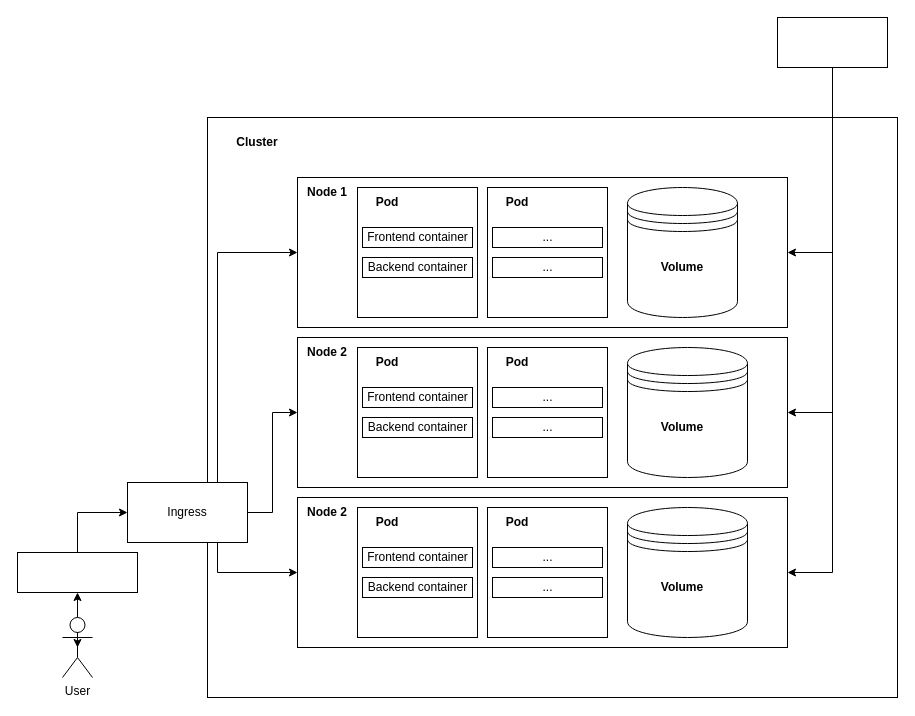
Image size: 915x716. Some labels were removed from this diagram. Here are the shapes that lost their labels. From the top down, the centre of each, then its label:
At point 832,42: "kubectl".
At point 77,572: "Load balancer".
